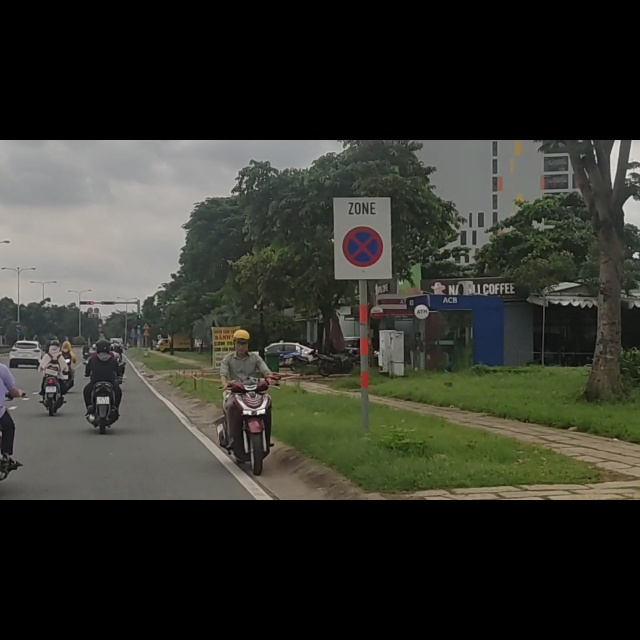bien_cam: (342, 154, 383, 226), (15, 325, 23, 334), (15, 334, 21, 344)
